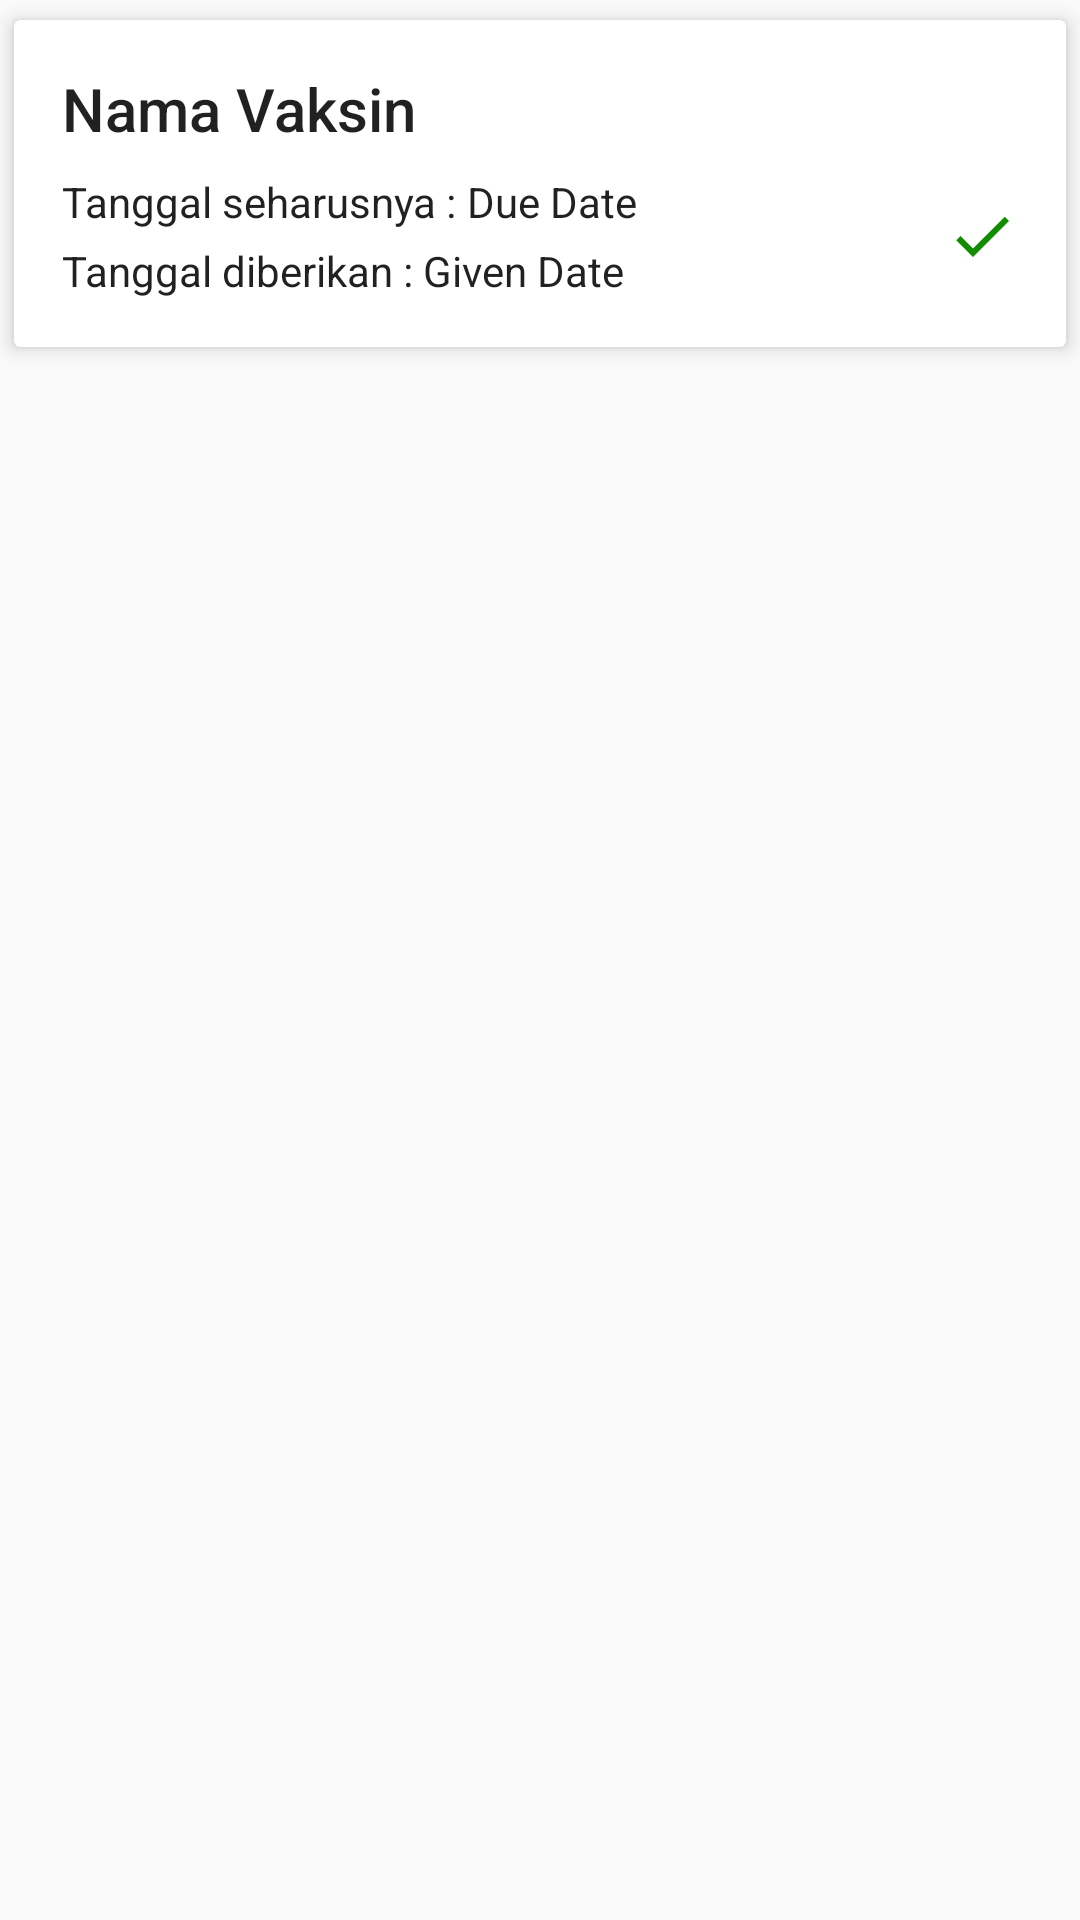

Screen size 1080 × 1920. Icon name, then its box in pixels as (x1, y1, x2, y2):
check: (956, 217, 1009, 257)
